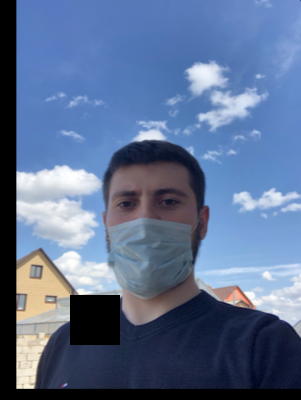with_mask: (105, 180, 196, 300)
